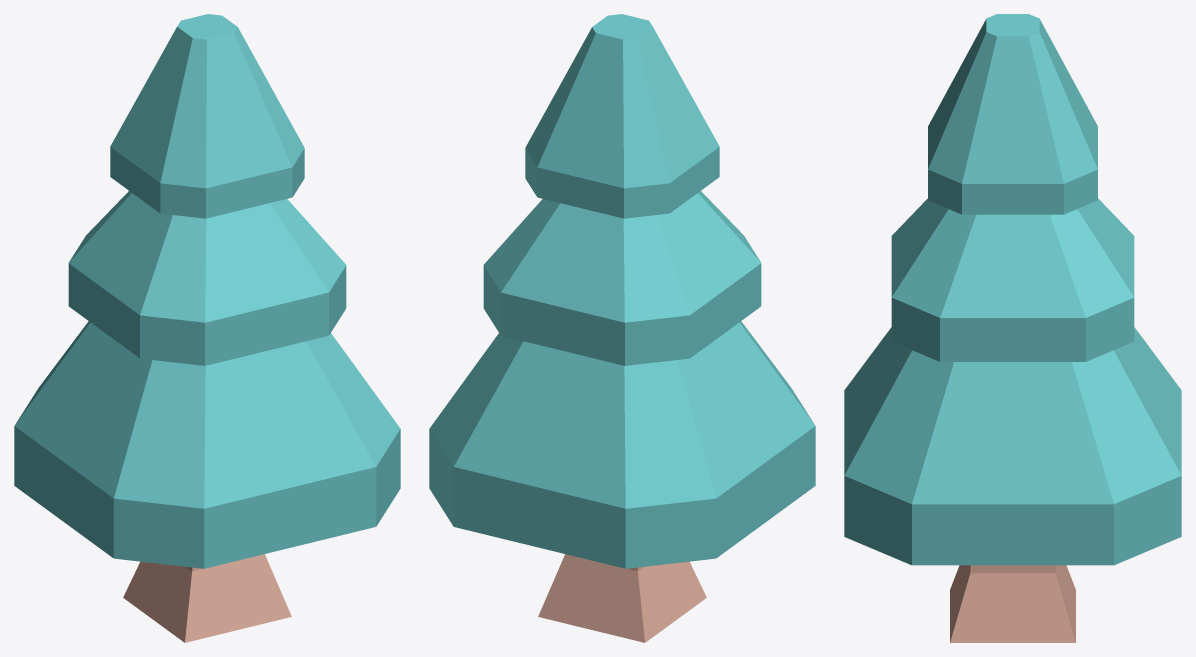
File: tree_pineSmallA.fbx
The picture shows the model from 3 angles, left to right: view 1: azimuth 30°, elevation 25°; view 2: azimuth 150°, elevation 25°; view 3: azimuth 270°, elevation 25°; orthographic projection.
Visible parts, largest first — view 1: tree_pineSmallA_LOD0; view 2: tree_pineSmallA_LOD0; view 3: tree_pineSmallA_LOD0.
Part boxes in pixels (x1,y1,x2,y2): tree_pineSmallA_LOD0: [14, 14, 400, 642]; tree_pineSmallA_LOD0: [429, 14, 815, 642]; tree_pineSmallA_LOD0: [844, 14, 1181, 642].
Size of what is drawn, in the model's own units: 50 by 96.72 by 50.
